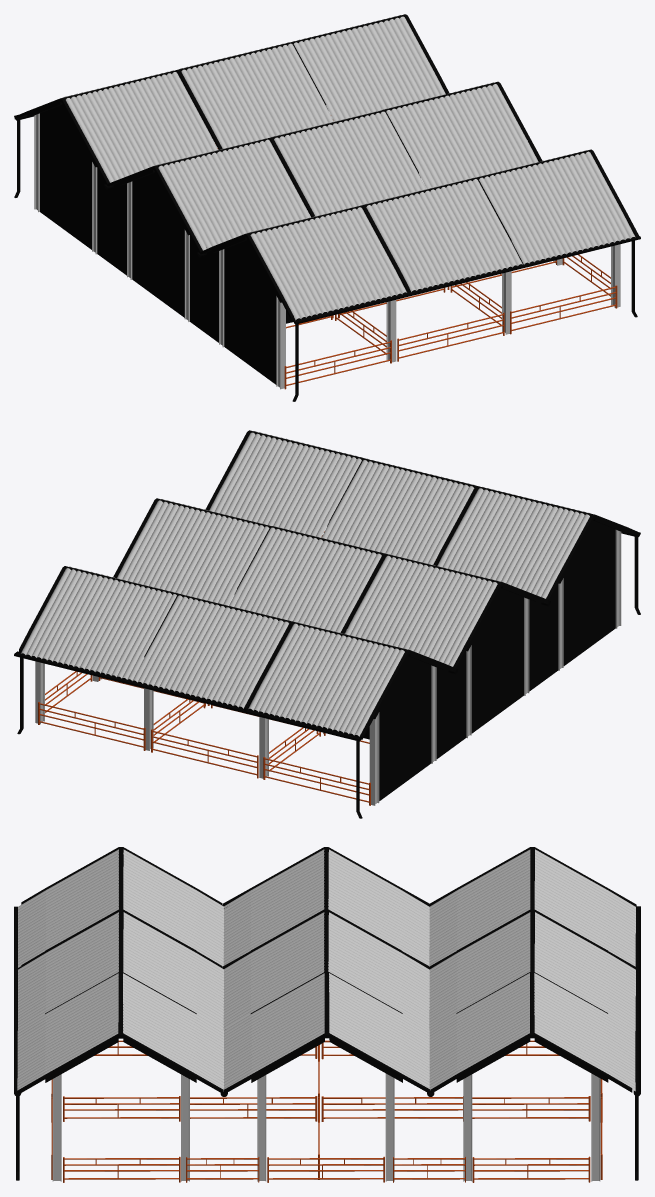
Rendered from Ware House.fbx.
3 renders of one model, top to bottom at view 1: azimuth 30°, elevation 25°; view 2: azimuth 150°, elevation 25°; view 3: azimuth 270°, elevation 25°, orthographic. The views are drawn at different scales.
Visible parts, largest first — view 1: Warehouse; view 2: Warehouse; view 3: Warehouse.
Boxes of the visible parts, left/top/right/bottom form: Warehouse: left=14, top=14, right=640, bottom=401; Warehouse: left=14, top=430, right=640, bottom=818; Warehouse: left=14, top=847, right=640, bottom=1182.
Bounding box in the file's own units: 7585 × 2784 × 10595.
